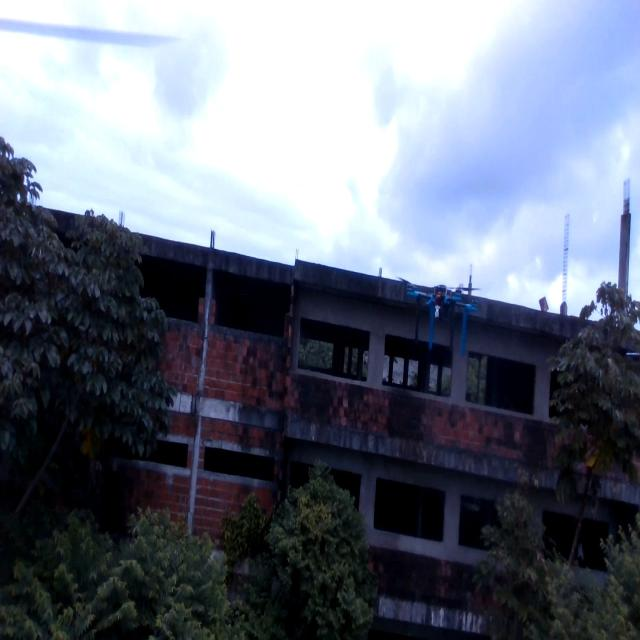-uav-: (390, 256, 488, 363)
